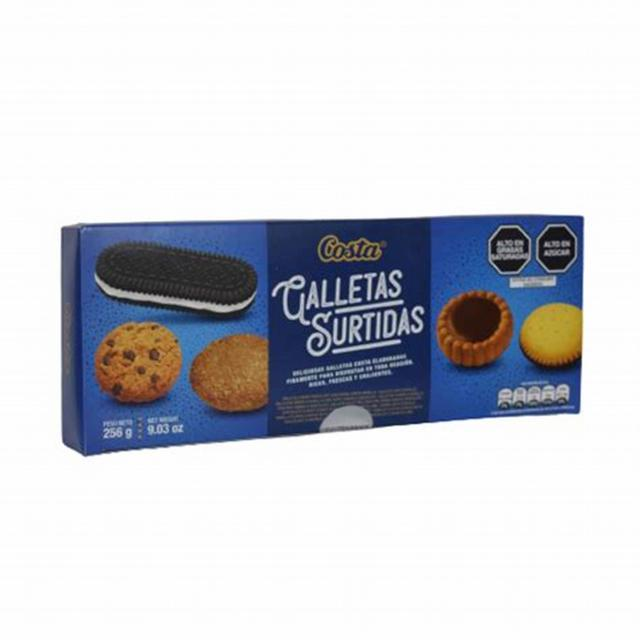Caja: (45, 185, 613, 478)
